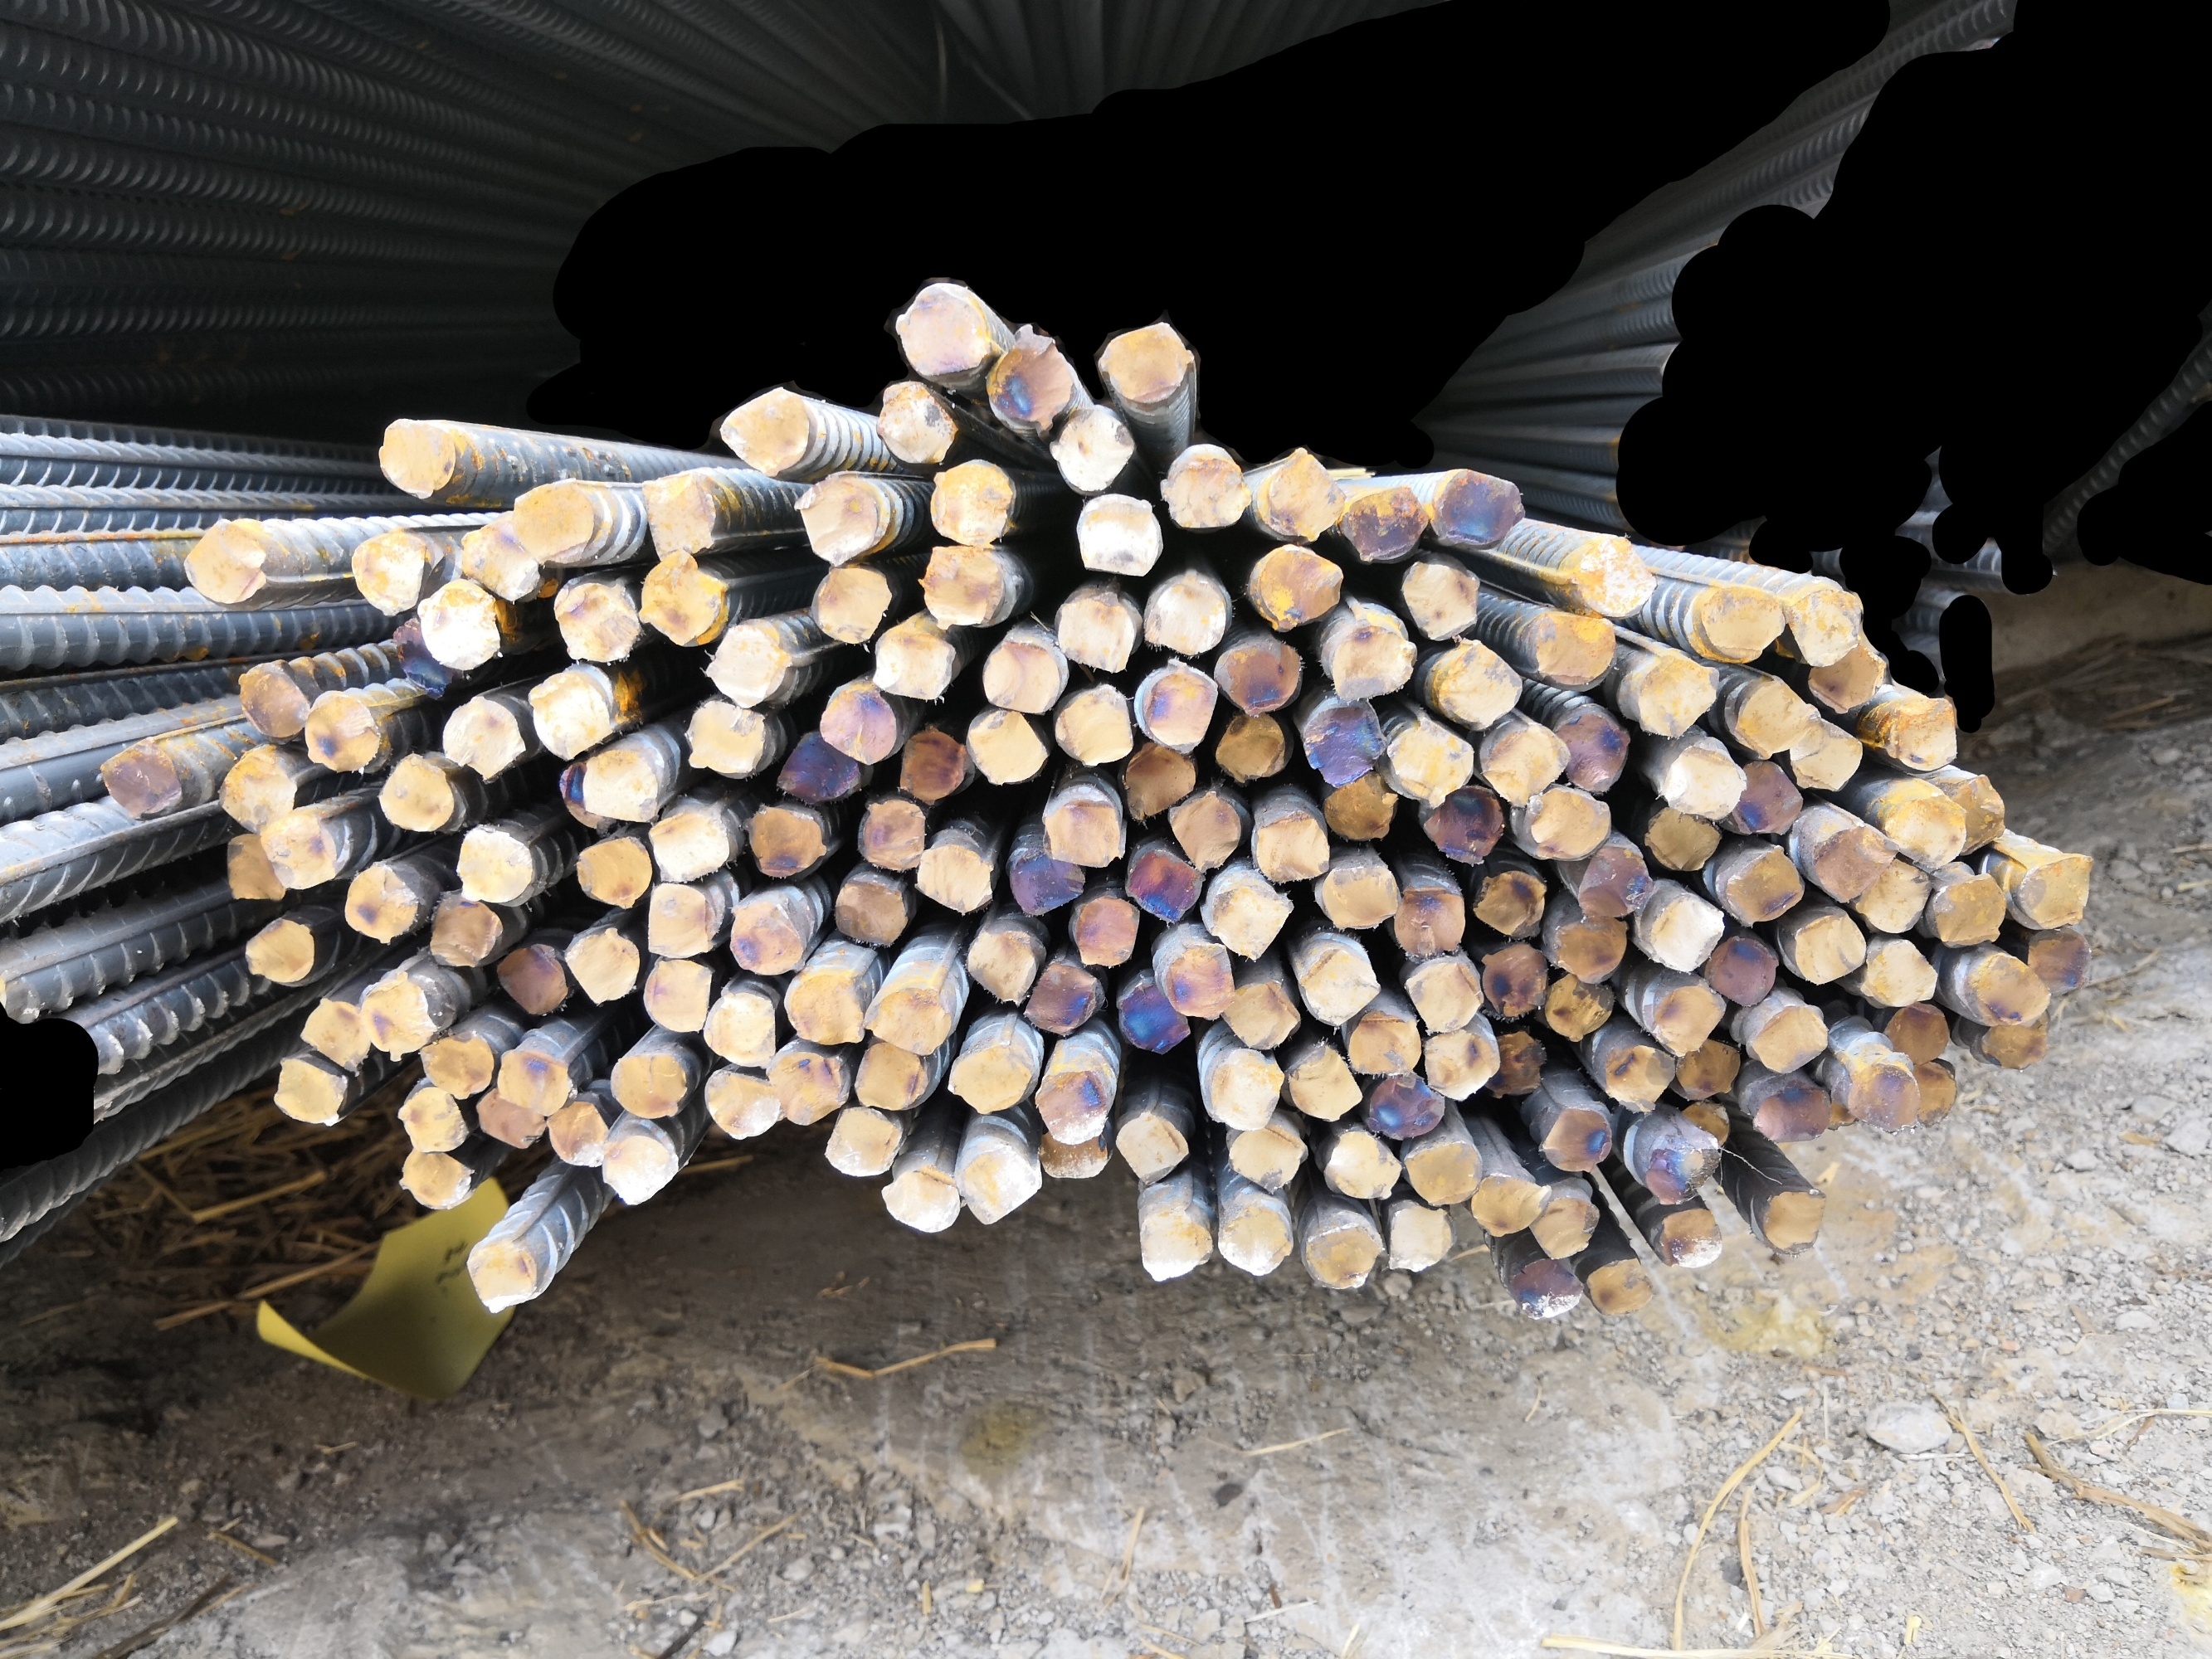rebar: (985, 326, 1072, 436), (525, 666, 617, 762), (894, 284, 987, 378), (720, 383, 811, 472), (1100, 319, 1194, 404), (1262, 444, 1342, 542), (924, 462, 1014, 547), (640, 554, 725, 641), (797, 477, 882, 565), (1074, 495, 1164, 577), (1384, 725, 1475, 807), (953, 1141, 1041, 1225), (439, 695, 528, 777), (920, 544, 1011, 624), (1051, 406, 1138, 488), (1253, 549, 1344, 627), (1051, 685, 1135, 769), (183, 519, 265, 605), (553, 580, 638, 662), (1306, 697, 1388, 782), (420, 582, 500, 669), (347, 528, 425, 617), (378, 413, 455, 504), (1055, 589, 1138, 671), (216, 748, 296, 833), (1635, 657, 1720, 737), (1813, 824, 1902, 901), (512, 484, 594, 566), (818, 685, 901, 765), (1147, 570, 1227, 653), (1482, 727, 1569, 803), (980, 636, 1062, 716), (1042, 786, 1123, 868), (1736, 674, 1818, 755), (704, 624, 788, 702), (1700, 582, 1785, 659), (877, 382, 955, 464), (1210, 880, 1292, 958), (342, 863, 418, 946), (1436, 648, 1522, 723), (1522, 788, 1611, 859), (784, 969, 865, 1047), (302, 692, 378, 774), (727, 897, 809, 974), (1164, 945, 1241, 1026), (966, 924, 1041, 1007), (1661, 744, 1745, 819), (1436, 474, 1522, 547), (361, 976, 432, 1063), (1400, 561, 1478, 640), (460, 523, 540, 599), (685, 702, 767, 777), (1788, 584, 1862, 667), (1159, 460, 1248, 528), (455, 826, 533, 903), (640, 476, 715, 556), (1288, 1044, 1363, 1124), (966, 709, 1048, 782), (239, 662, 310, 746), (945, 1047, 1032, 1115), (1726, 849, 1802, 925), (260, 812, 335, 890), (427, 890, 502, 969), (1300, 950, 1379, 1025), (1426, 786, 1504, 861), (101, 748, 181, 821), (809, 568, 889, 641), (873, 627, 953, 701), (915, 843, 995, 917), (648, 810, 730, 882), (777, 734, 865, 800), (1578, 538, 1654, 613), (746, 805, 824, 878), (1555, 713, 1628, 791), (1645, 896, 1724, 969), (1346, 490, 1426, 561), (572, 838, 654, 908), (765, 1054, 847, 1124), (1217, 641, 1299, 711), (1332, 626, 1414, 695), (865, 988, 950, 1054), (1142, 671, 1217, 746), (1642, 1127, 1717, 1202), (1138, 1206, 1215, 1279), (1651, 979, 1724, 1056), (380, 755, 451, 833), (1886, 798, 1966, 868), (1250, 816, 1332, 884), (1128, 845, 1201, 920), (824, 1107, 901, 1178), (1393, 889, 1469, 960), (1975, 951, 2052, 1023), (1734, 762, 1804, 840), (1536, 615, 1618, 681), (1300, 1225, 1384, 1290), (896, 730, 967, 805), (1124, 744, 1196, 819), (1208, 1051, 1279, 1126), (1478, 945, 1550, 1019), (1424, 1030, 1499, 1101), (1930, 877, 2006, 946), (1468, 1171, 1548, 1237), (1856, 941, 1938, 1006), (567, 932, 638, 1006), (1037, 1070, 1109, 1143), (1213, 714, 1286, 786), (1578, 847, 1651, 918), (272, 1058, 347, 1127), (641, 960, 711, 1035), (702, 995, 777, 1065), (1027, 964, 1102, 1033), (1171, 793, 1241, 868), (1119, 978, 1189, 1053), (1408, 960, 1483, 1030), (1551, 917, 1626, 986), (2020, 856, 2095, 925), (1405, 1141, 1482, 1209), (1365, 1077, 1445, 1141), (1009, 847, 1082, 917), (1858, 861, 1931, 931), (586, 753, 661, 821), (704, 1072, 779, 1140), (1752, 1004, 1827, 1072), (1114, 1117, 1191, 1183), (1325, 1133, 1401, 1199), (880, 1171, 962, 1232), (1794, 913, 1863, 985), (1890, 695, 1959, 767), (603, 1136, 676, 1204), (835, 878, 908, 946), (1218, 1209, 1292, 1277), (303, 997, 370, 1072), (645, 884, 711, 958), (392, 1150, 476, 1209), (1229, 1127, 1306, 1192), (1320, 864, 1396, 929), (244, 917, 316, 985), (467, 1243, 539, 1310), (859, 798, 927, 870), (1070, 897, 1138, 969), (1384, 1204, 1452, 1276), (499, 1051, 572, 1117), (1537, 1107, 1612, 1171), (1809, 647, 1884, 711), (610, 1054, 687, 1117), (1222, 983, 1299, 1046), (1944, 775, 2005, 854), (497, 946, 565, 1016), (1846, 1063, 1914, 1133), (1544, 974, 1616, 1040), (1706, 938, 1778, 1004), (397, 1087, 469, 1152), (856, 1046, 927, 1110), (1471, 875, 1544, 938), (1349, 1014, 1422, 1077), (420, 1037, 495, 1098), (1645, 809, 1720, 870), (1794, 721, 1860, 789), (1327, 775, 1396, 840), (392, 622, 451, 695), (1511, 1262, 1584, 1321), (1604, 1047, 1673, 1108), (1752, 1087, 1830, 1141), (227, 829, 286, 901), (1757, 1188, 1823, 1251), (1534, 1194, 1597, 1258), (2027, 929, 2092, 992), (474, 1091, 546, 1147), (546, 1105, 607, 1168), (1884, 1004, 1951, 1061), (1661, 1209, 1722, 1269), (1677, 1042, 1741, 1098), (1588, 1258, 1654, 1312), (1037, 1131, 1110, 1178), (1978, 1018, 2046, 1068), (1489, 1033, 1544, 1094), (561, 767, 605, 829), (1914, 1065, 1956, 1124), (1684, 1101, 1731, 1148), (1829, 1103, 1855, 1129)
